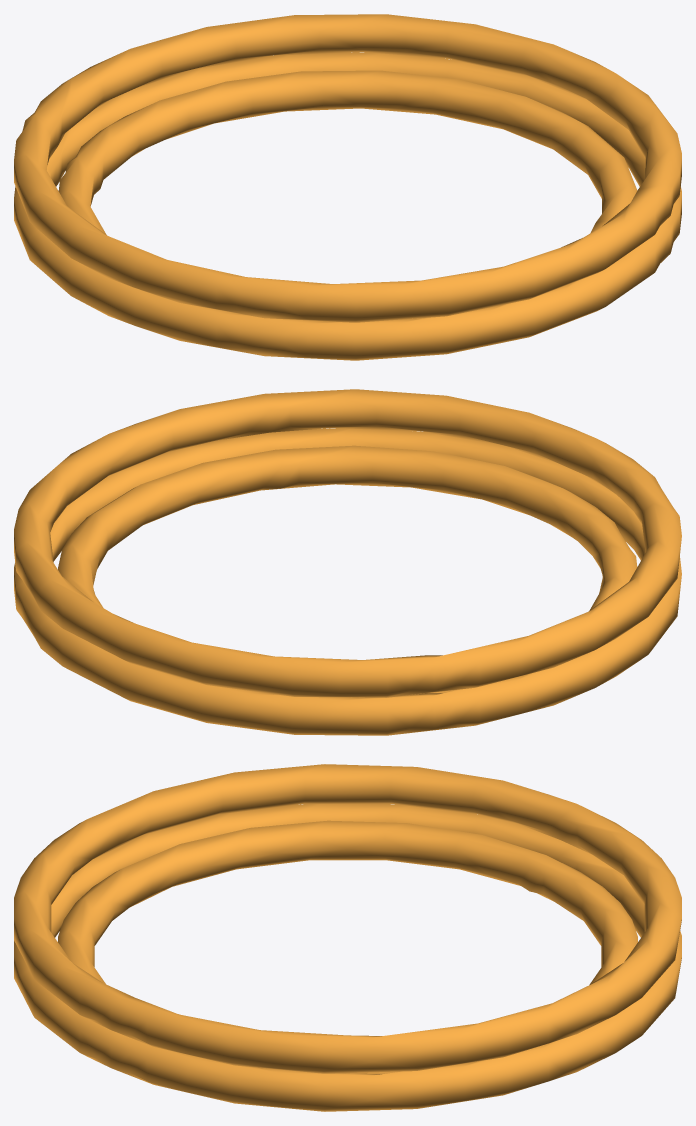
The model's file is ELE-ELD-002_lod1.glb.
3 views of the same model, one above another, from view 1: azimuth 30°, elevation 25°; view 2: azimuth 150°, elevation 25°; view 3: azimuth 270°, elevation 25° (orthographic).
Visible parts, largest first — view 1: ELE-ELD-002_volta2, ELE-ELD-002_volta0, ELE-ELD-002_volta1; view 2: ELE-ELD-002_volta2, ELE-ELD-002_volta0, ELE-ELD-002_volta1; view 3: ELE-ELD-002_volta2, ELE-ELD-002_volta0, ELE-ELD-002_volta1.
Part boxes in pixels (x1,y1,x2,y2): ELE-ELD-002_volta2: (14, 14, 681, 322); ELE-ELD-002_volta0: (14, 52, 681, 360); ELE-ELD-002_volta1: (58, 70, 637, 321); ELE-ELD-002_volta2: (14, 389, 681, 697); ELE-ELD-002_volta0: (14, 428, 681, 735); ELE-ELD-002_volta1: (58, 445, 637, 697); ELE-ELD-002_volta2: (14, 764, 681, 1073); ELE-ELD-002_volta0: (14, 804, 681, 1111); ELE-ELD-002_volta1: (58, 820, 637, 1073).
Bounding box in the file's own units: 0.5285 × 0.0644 × 0.5253.
